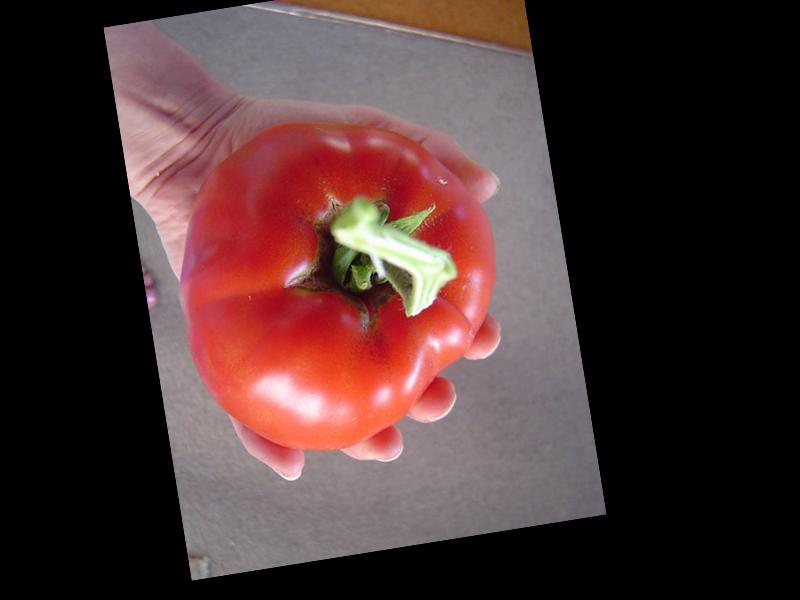Tomato: (157, 95, 522, 469)
